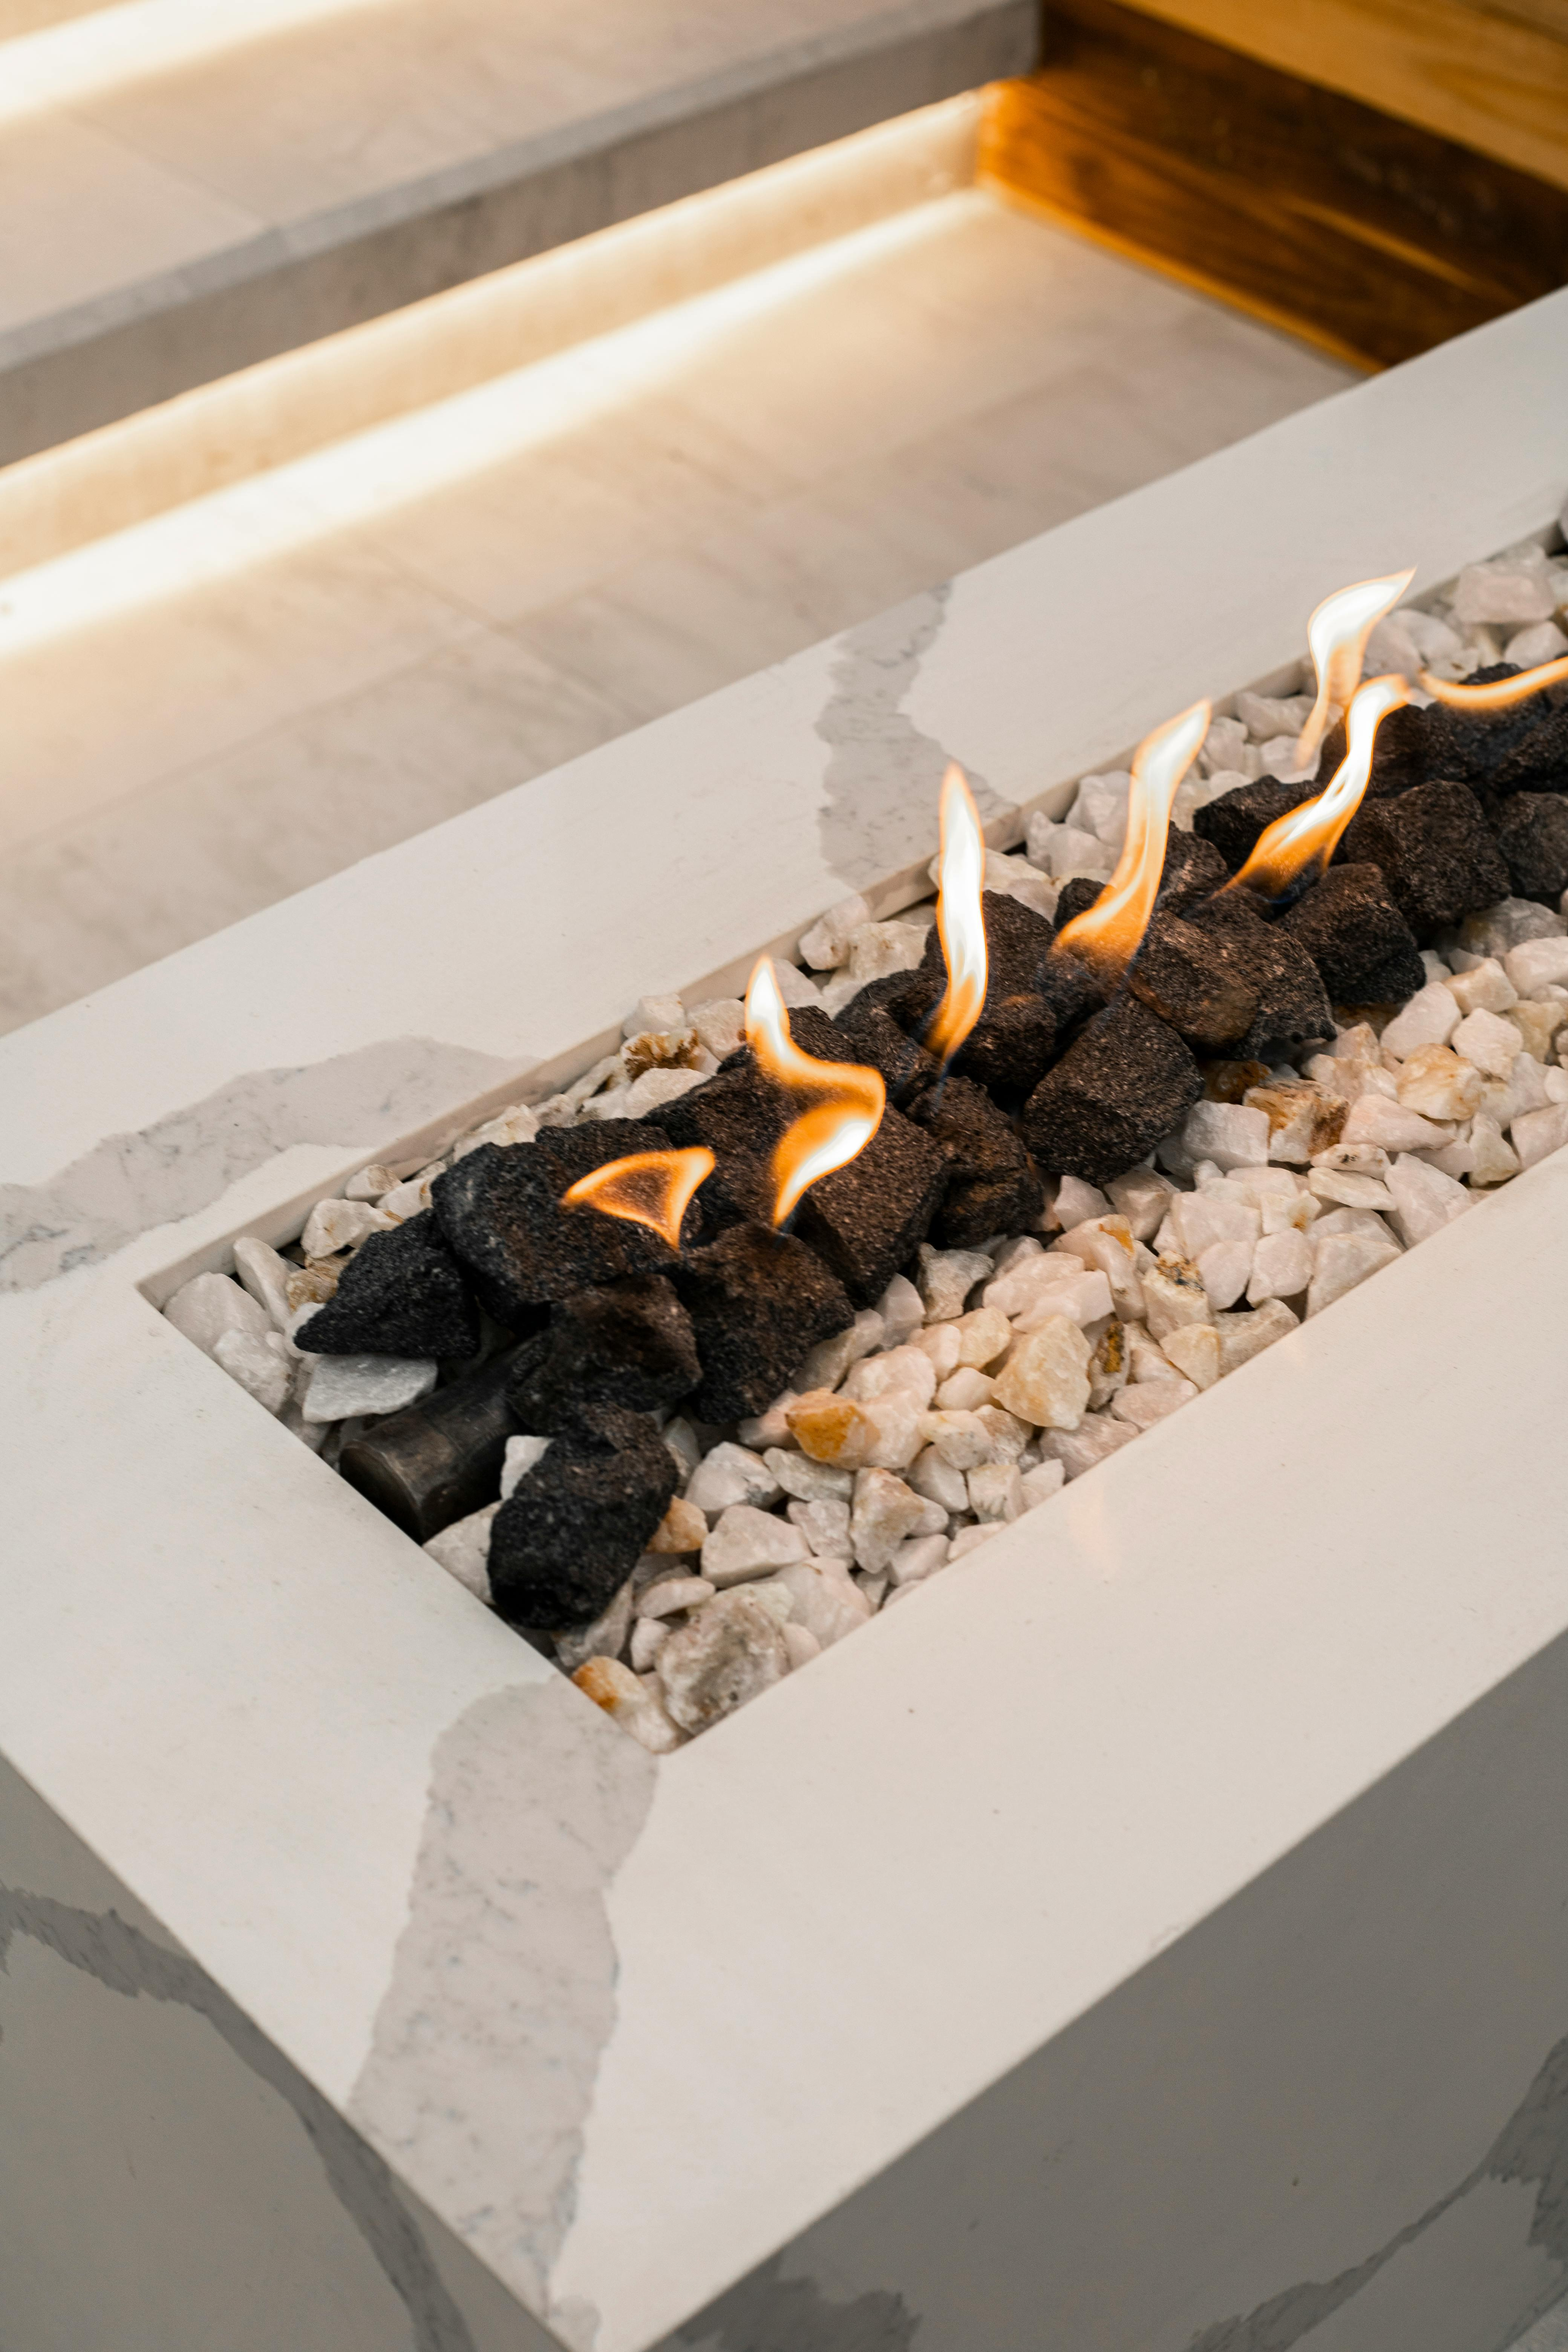Fire: (1223, 539, 1568, 957), (730, 931, 901, 1288), (1048, 667, 1211, 1004), (927, 756, 1027, 1090), (544, 1120, 723, 1304)
